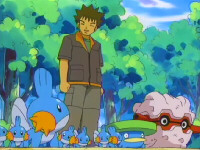mudkip: (11, 64, 71, 147), (6, 116, 29, 149), (93, 124, 112, 146), (57, 124, 75, 147), (72, 125, 91, 146), (109, 126, 123, 147)
